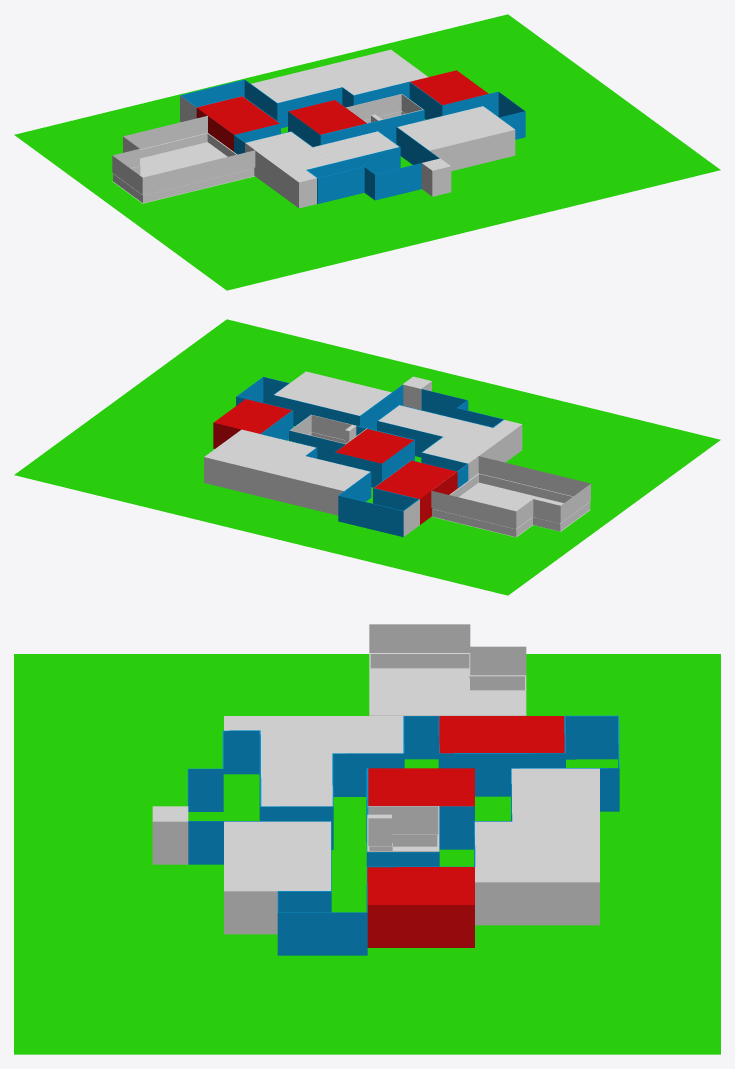
File: baseLevel.fbx
3 renders of one model, top to bottom at view 1: azimuth 30°, elevation 25°; view 2: azimuth 150°, elevation 25°; view 3: azimuth 270°, elevation 25°, orthographic. The views are drawn at different scales.
Parts seen in each view (by area): view 1: Plane, Cube.008, Cube.010, Cube, Cube.002, Cube.006, Cube.004, Cube.009, Cube.003, Cube.001, Cube.005, WashRoom (+1 smaller); view 2: Plane, Cube.008, Cube.010, Cube.002, Cube.006, Cube, Cube.004, Cube.009, Cube.003, Cube.001, Cube.005, WashRoom (+1 smaller); view 3: Plane, Cube.008, Cube.002, Cube.010, Cube, Cube.003, Cube.006, Cube.004, Cube.001, Cube.005, WashRoom, Cube.009 (+1 smaller).
Boxes of the visible parts, box(x1,y1,x2,y2) form: Plane: box(14, 14, 720, 290); Cube.008: box(180, 79, 525, 204); Cube.010: box(112, 115, 255, 203); Cube: box(397, 106, 515, 171); Cube.002: box(251, 49, 428, 102); Cube.006: box(245, 132, 333, 208); Cube.004: box(196, 96, 279, 151); Cube.009: box(288, 94, 424, 146); Cube.003: box(410, 70, 488, 105); Cube.001: box(288, 100, 366, 134); Cube.005: box(313, 131, 398, 162); WashRoom: box(346, 94, 423, 123); Plane: box(14, 319, 720, 595); Cube.008: box(236, 377, 504, 537); Cube.010: box(431, 456, 590, 537); Cube.002: box(204, 429, 369, 515); Cube.006: box(422, 420, 522, 480); Cube: box(274, 371, 391, 415); Cube.004: box(374, 460, 457, 524); Cube.009: box(289, 415, 414, 487); Cube.003: box(213, 399, 291, 448); Cube.001: box(335, 429, 413, 463); Cube.005: box(378, 405, 464, 436); WashRoom: box(290, 414, 367, 444); Plane: box(14, 654, 720, 1054); Cube.008: box(187, 715, 619, 955); Cube.002: box(475, 768, 599, 925); Cube.010: box(369, 624, 526, 715); Cube: box(224, 821, 330, 934); Cube.003: box(367, 867, 474, 947); Cube.006: box(224, 716, 403, 753); Cube.004: box(439, 716, 564, 753); Cube.001: box(368, 768, 474, 806); Cube.005: box(261, 753, 332, 806); WashRoom: box(367, 806, 439, 851); Cube.009: box(366, 768, 474, 866).
Size of the model in its own units: 5281 by 298 by 3942.
